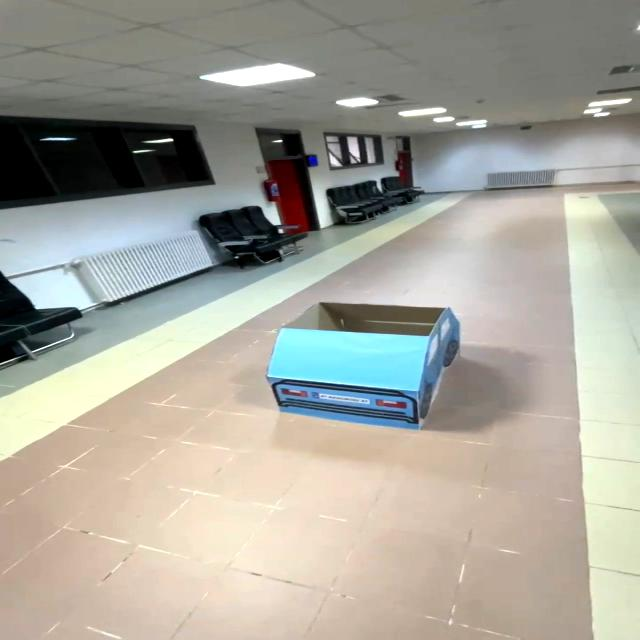blue_car: (222, 295, 489, 434)
